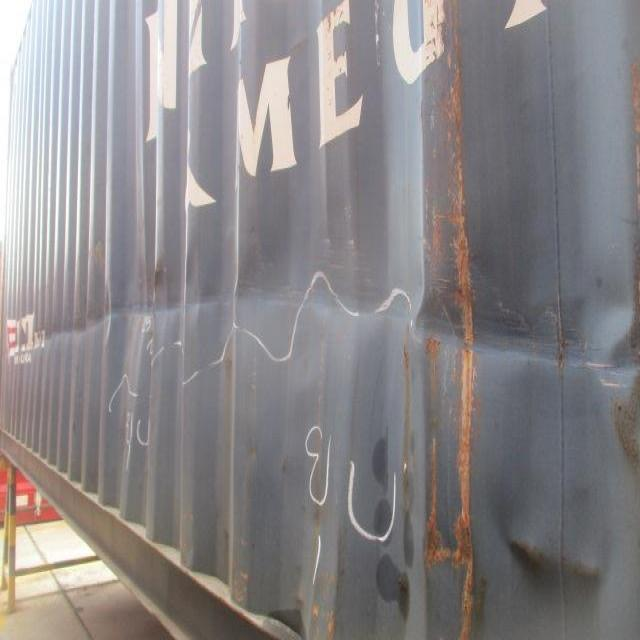Dent: (100, 185, 430, 419)
Minor-Dent: (407, 278, 570, 394), (494, 519, 616, 597), (41, 280, 114, 363)
